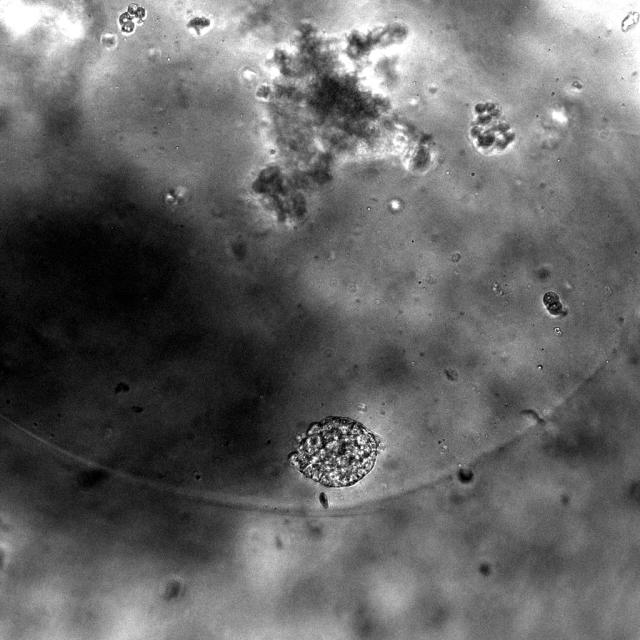organoid: (251, 22, 434, 221), (289, 416, 379, 487), (469, 101, 515, 154), (118, 3, 146, 32), (542, 291, 566, 316)
